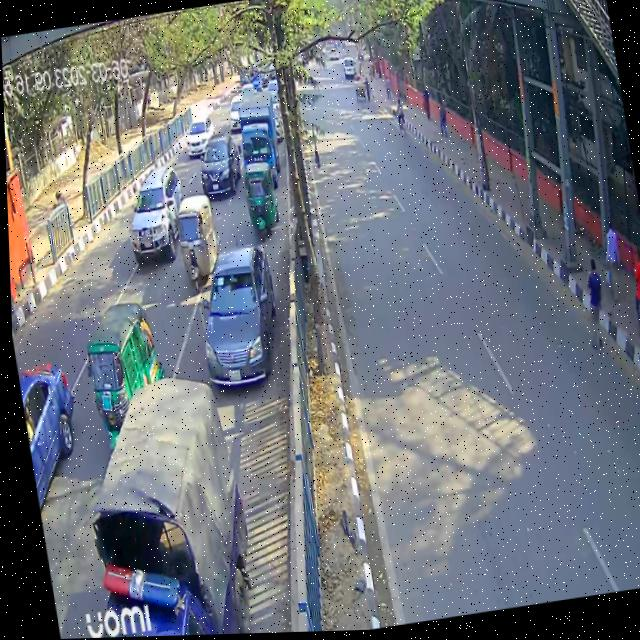cng: (71, 302, 171, 458), (175, 196, 226, 298), (237, 157, 281, 249)
